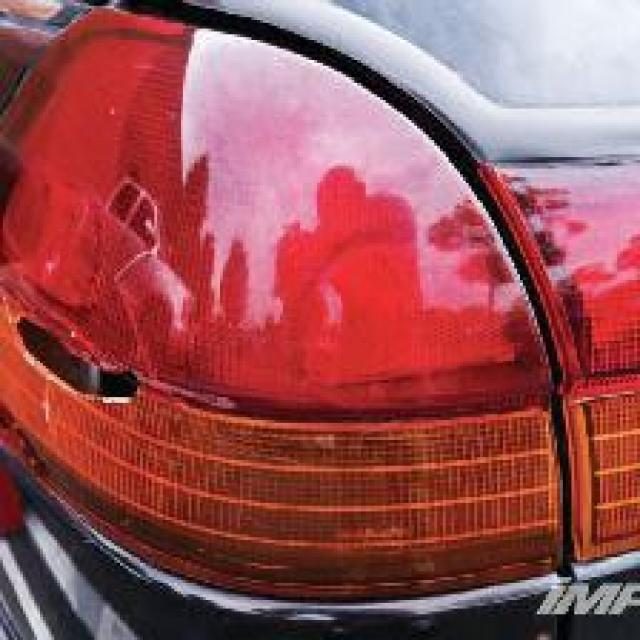damaged: (3, 300, 160, 420)
